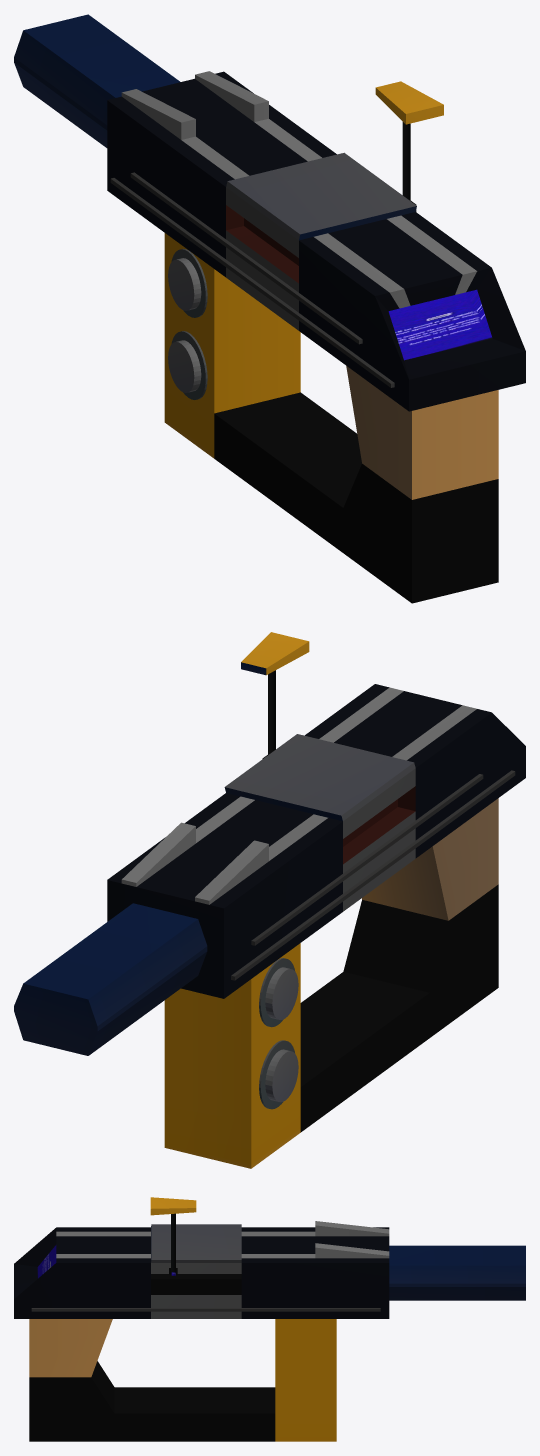
Rendered from SpaceGun.glb.
The picture shows the model from 3 angles, top to bottom: view 1: azimuth 30°, elevation 25°; view 2: azimuth 150°, elevation 25°; view 3: azimuth 270°, elevation 25°; orthographic projection. The views are drawn at different scales.
Visible parts, largest first — view 1: Cube; view 2: Cube; view 3: Cube.
Part boxes in pixels (x1,y1,x2,y2): Cube: [14, 14, 525, 603]; Cube: [14, 632, 525, 1168]; Cube: [14, 1197, 525, 1441].
Bounding box in the file's own units: 3.44 × 8.74 × 16.49.
2 materials, 2 textured.
